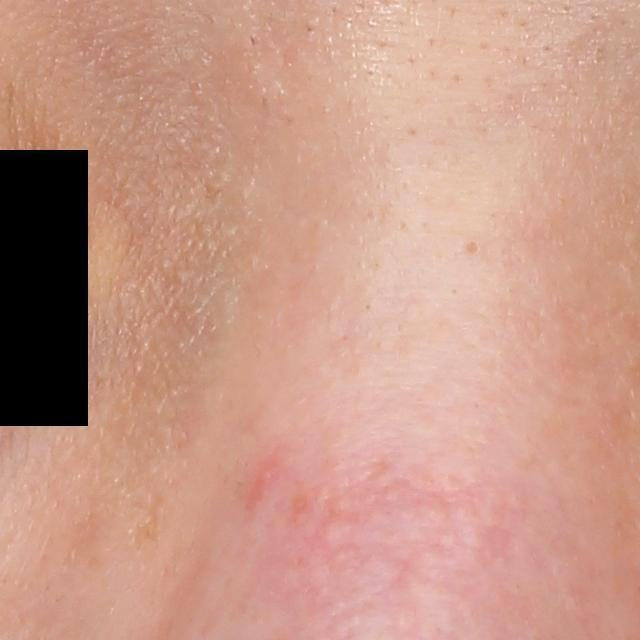comedo: (459, 236, 485, 261)
